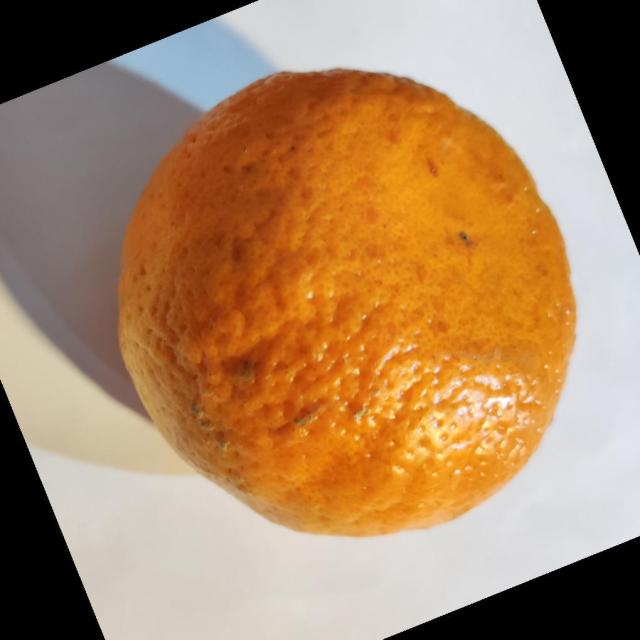fresh orange: (115, 66, 578, 538)
